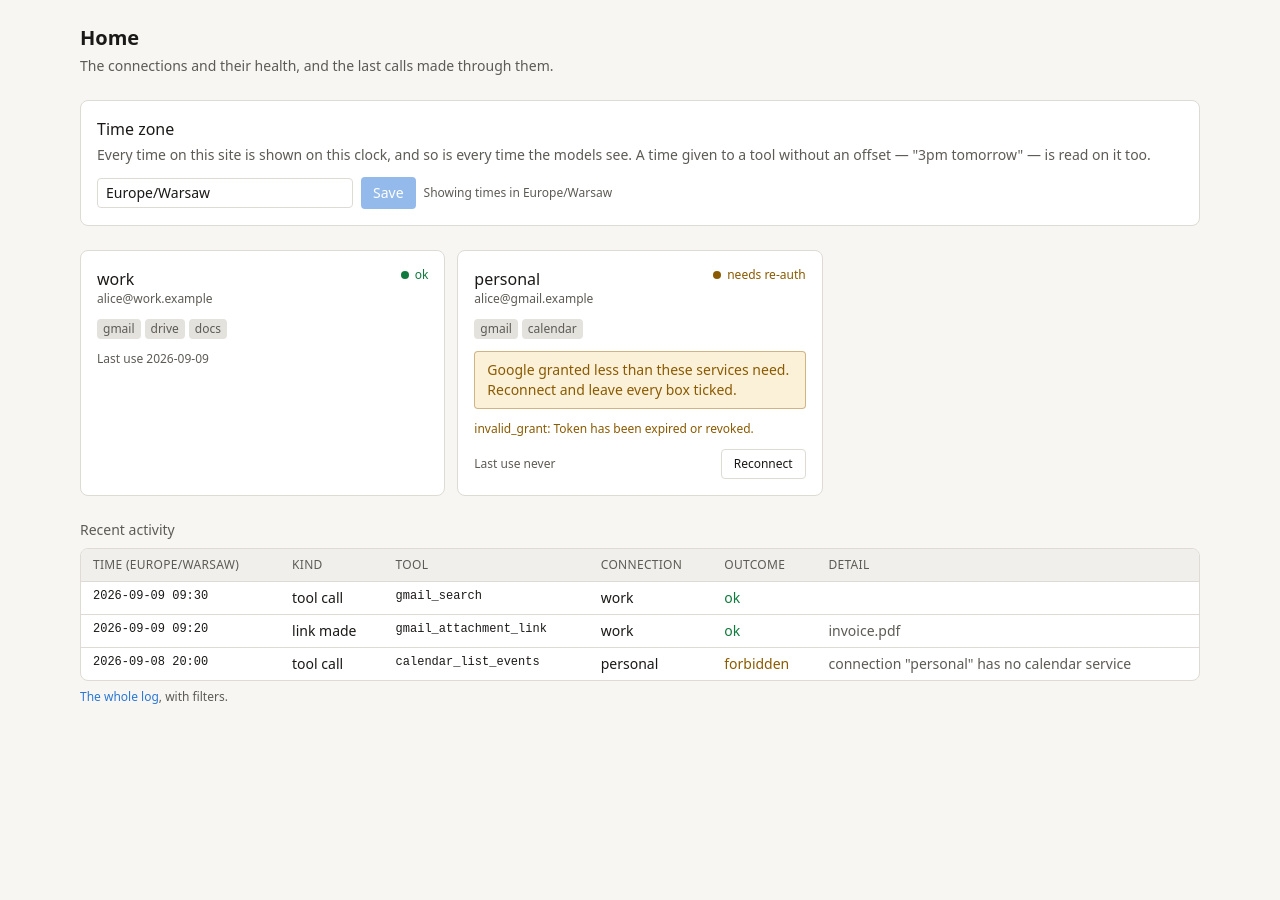
Test case: views › HomeView saves the time zone and shows every time on that clock
This screenshot has width=1280, height=900.
Expected: the table with test id "audit-table" shows "Time (Europe/Warsaw)", [93,556,239,573]
Expected: the text with test id "timezone-current" shows "Europe/Warsaw", [424,184,612,201]
Type "America/New_York" into the field with test id "timezone-input" at (225, 193), box [97,178,353,208]
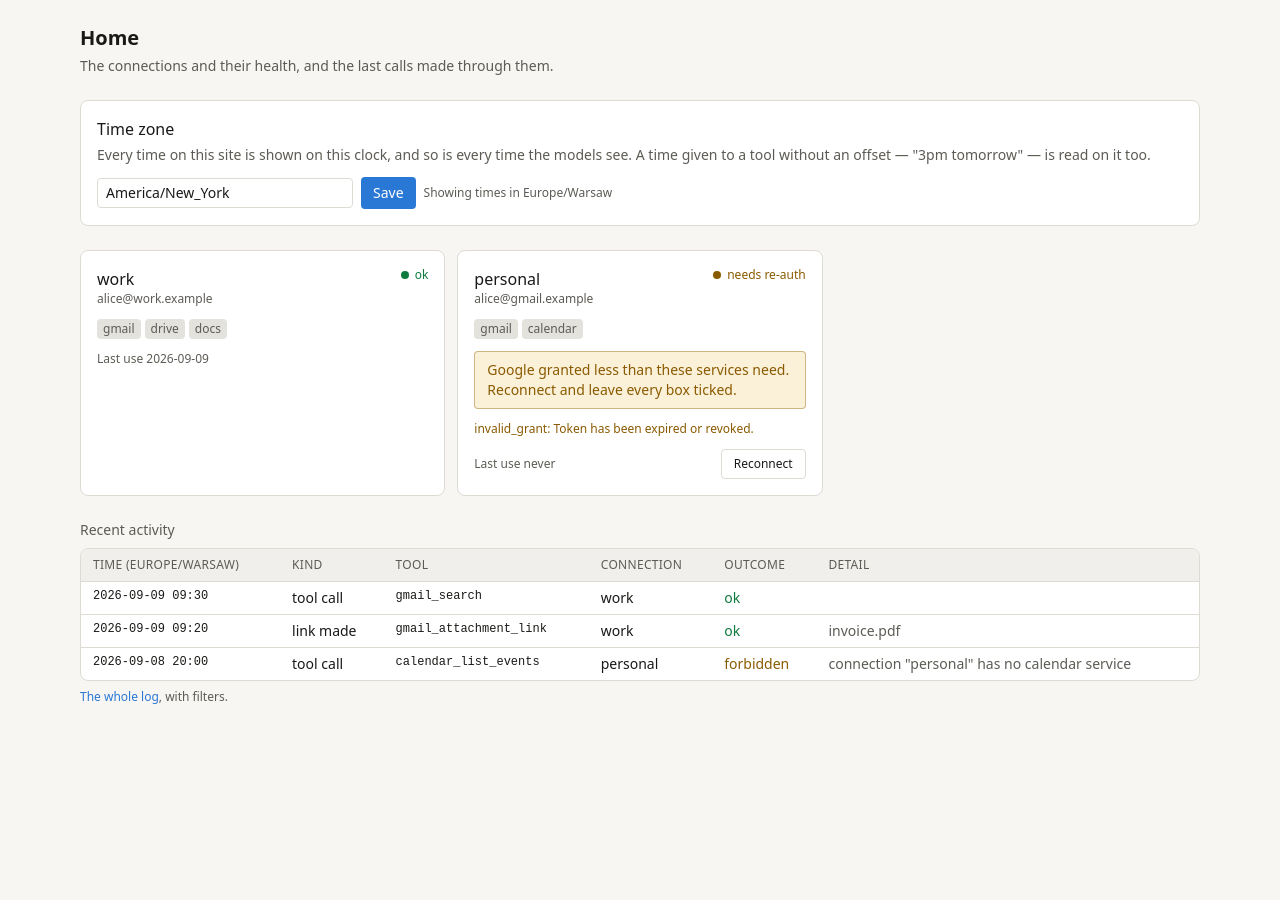
Submit the form from the button with test id "timezone-save", box [361,177,416,209]
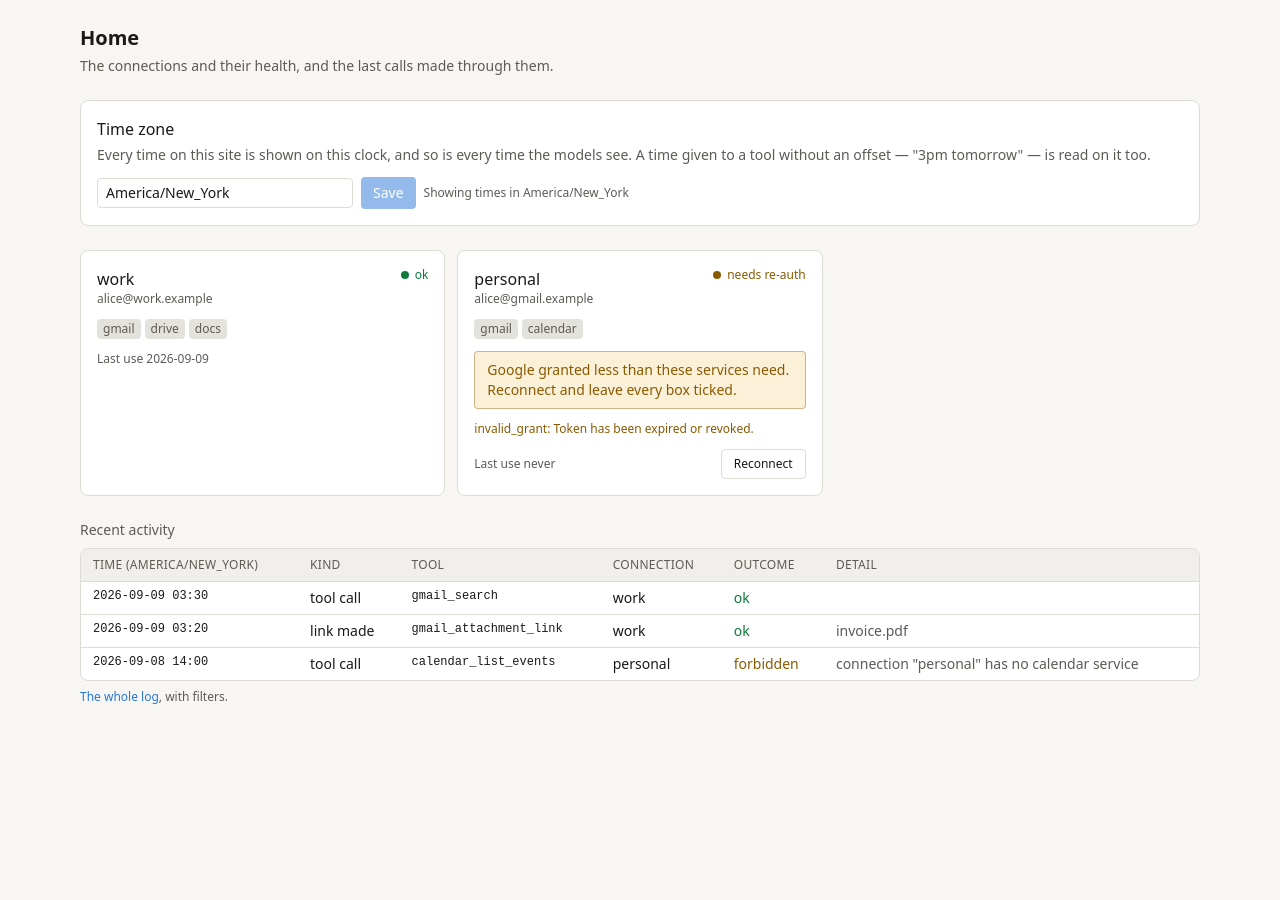
Expected: the text with test id "timezone-current" shows "America/New_York", [424,184,629,201]
Replace the text in the field with test id "timezone-input" with "Mars" at (225, 193), box [97,178,353,208]
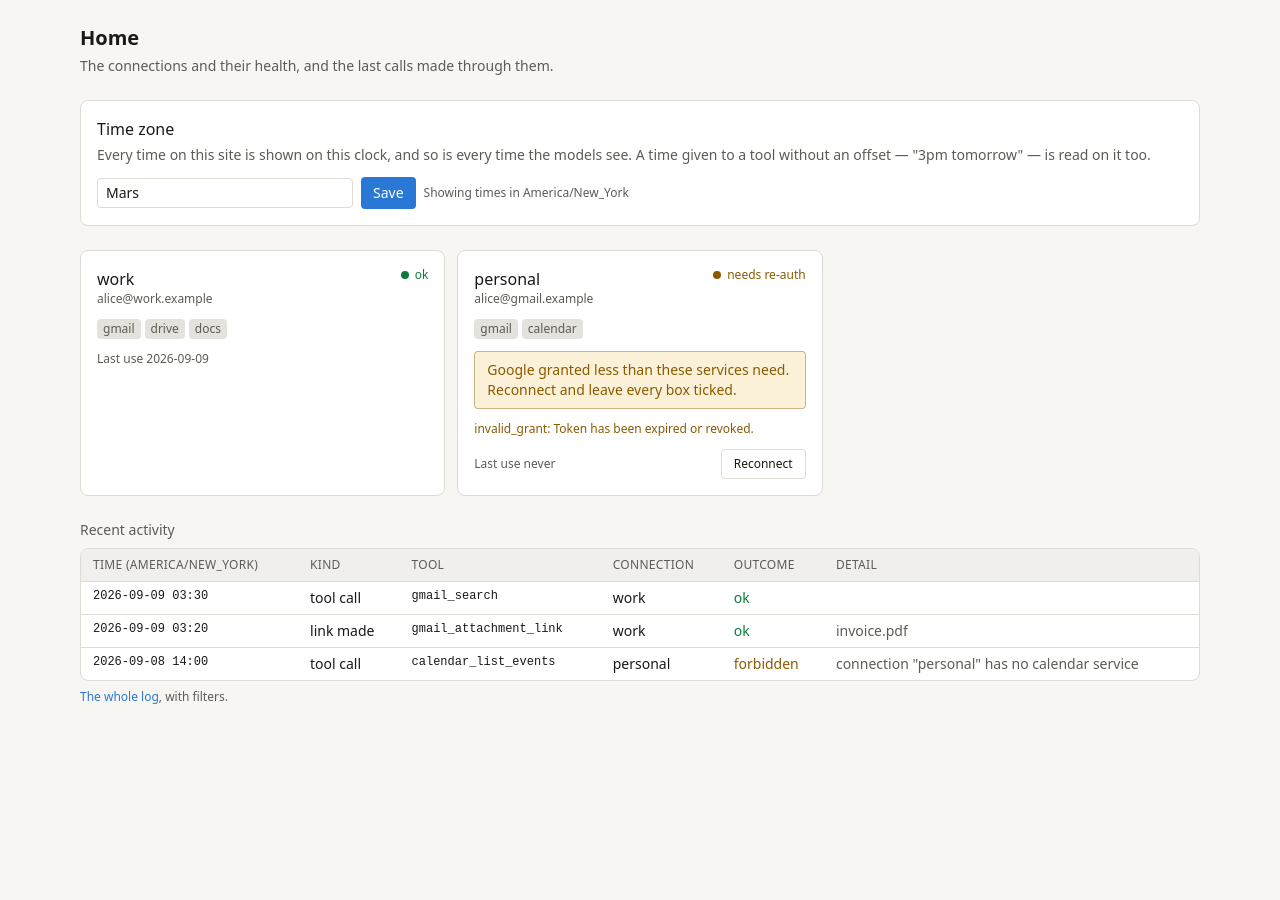
Submit the form from the button with test id "timezone-save", box [361,177,416,209]
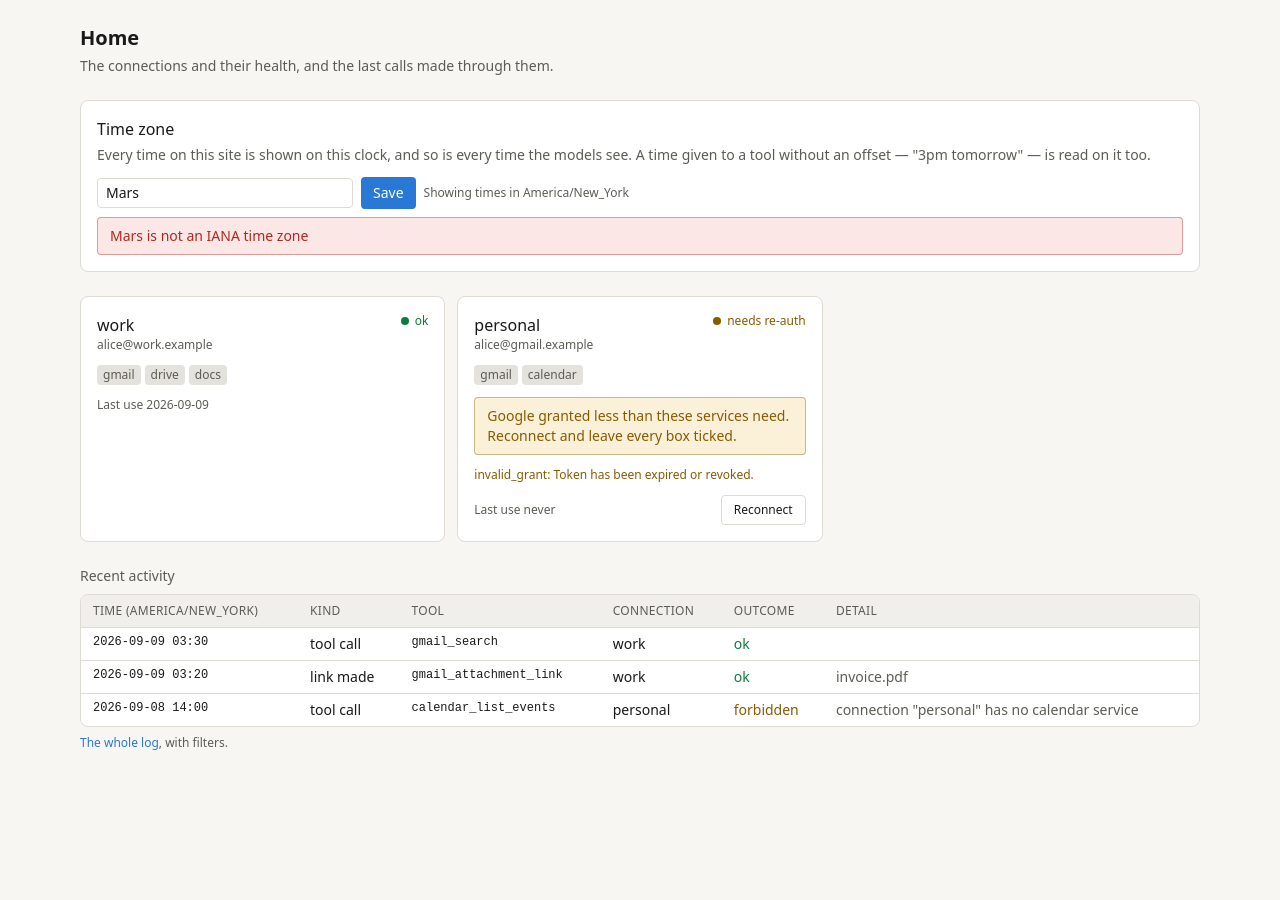
Expected: the text with test id "timezone-current" shows "America/New_York", [424,184,629,201]
Expected: the text with test id "timezone-error" shows "not an IANA time zone", [110,226,308,245]
